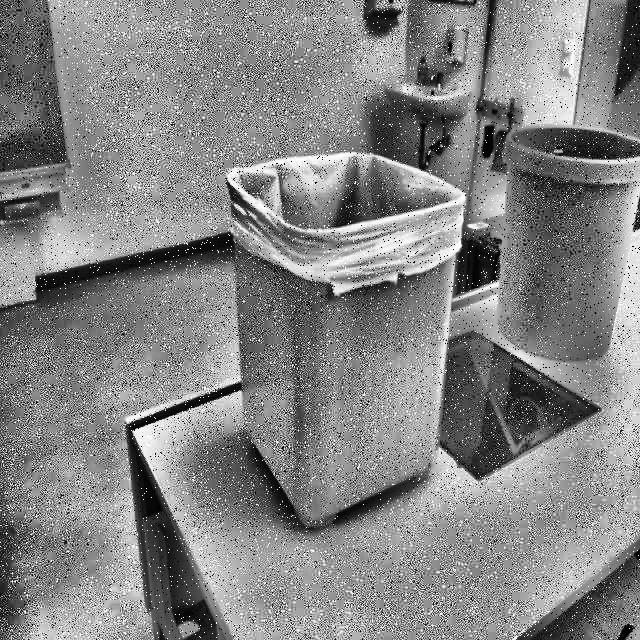Dustbin: (195, 138, 479, 540), (495, 96, 640, 382)
